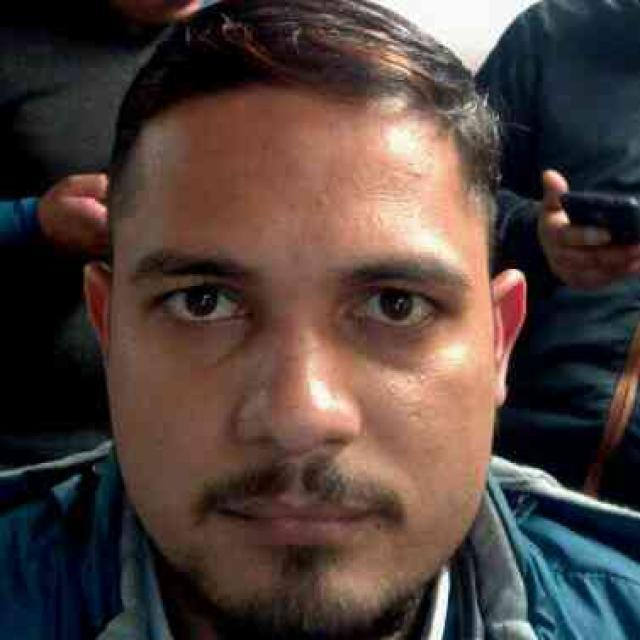Puffy Eyes - v3 Dark Circle: (326, 317, 436, 370), (181, 307, 268, 368)
